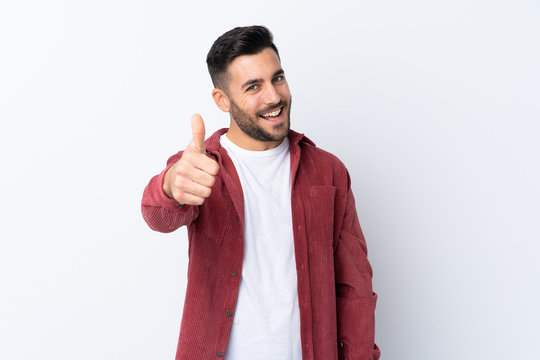ThumbUp: (170, 112, 222, 212)
